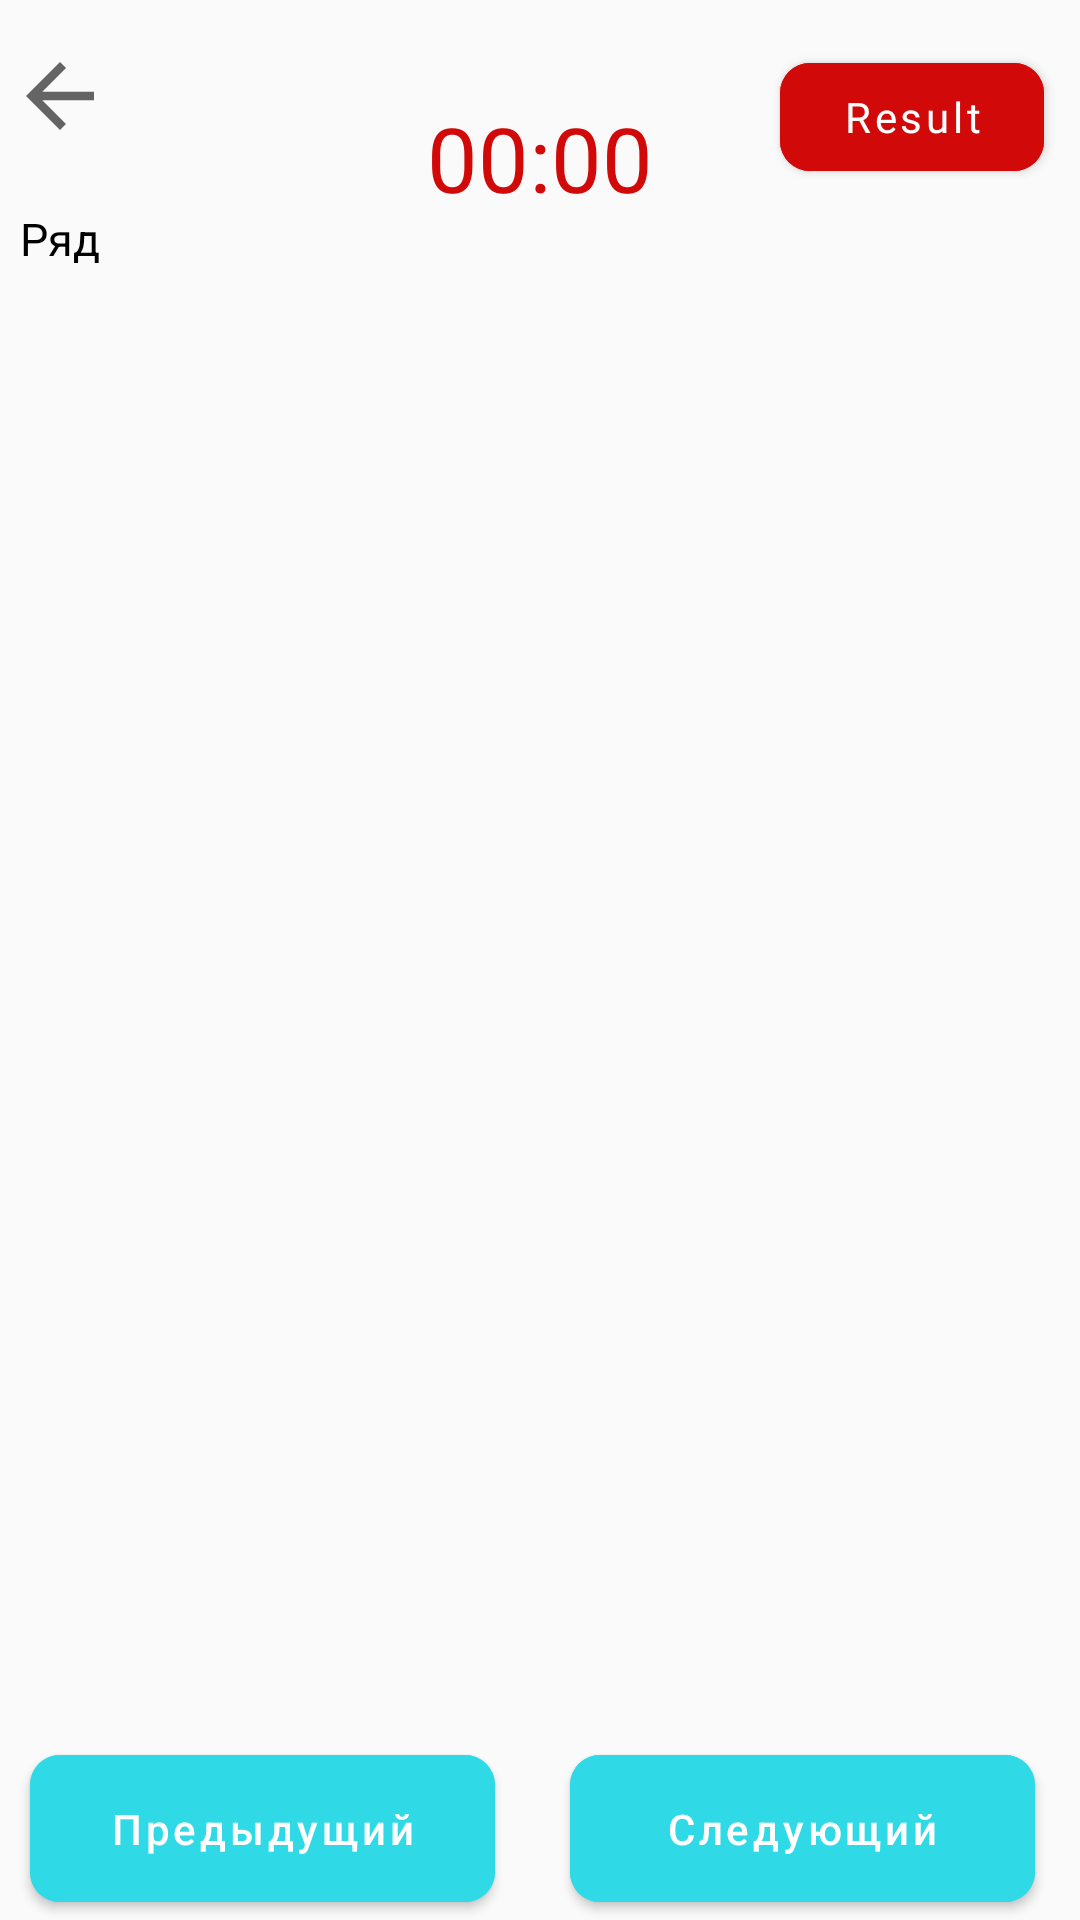

Icon click points for this 1080px x 1920px phone screenshot, format [x,y]:
arrow back: [60,96]
